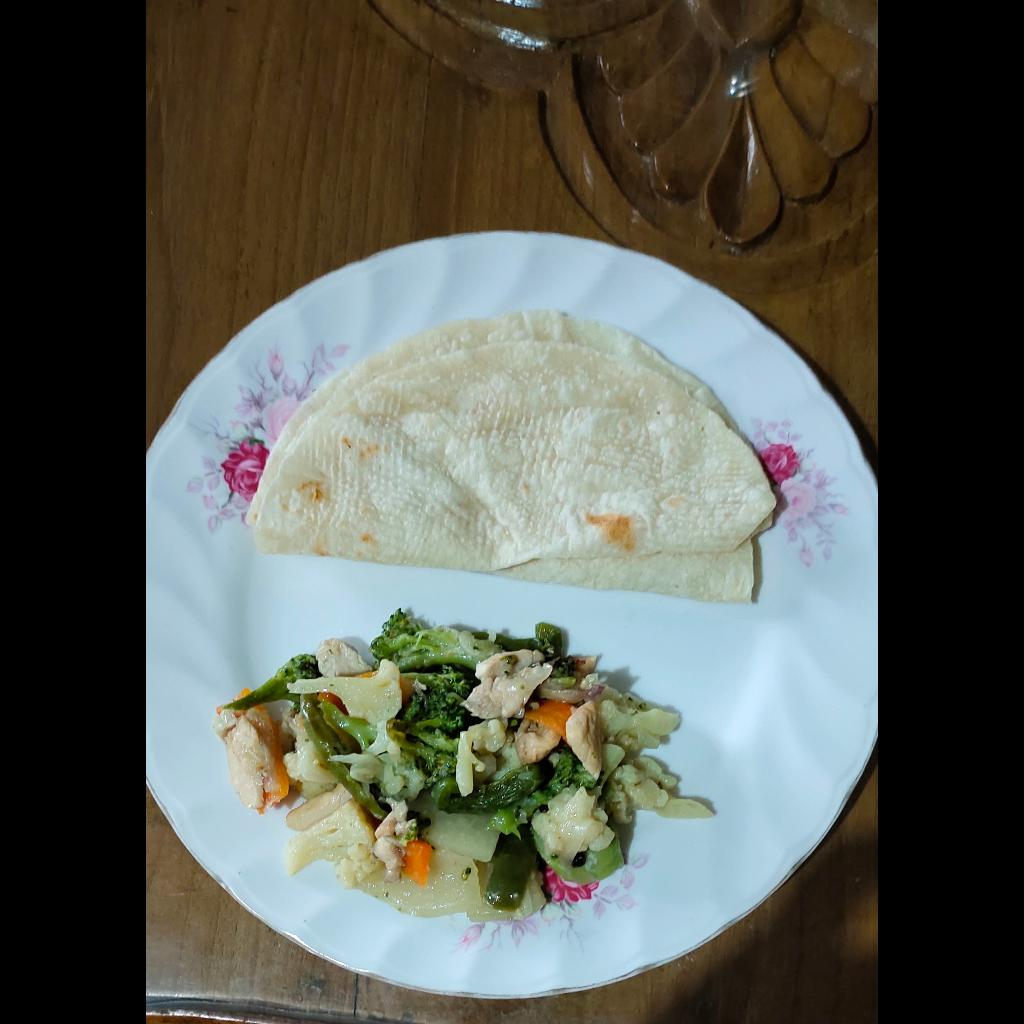ruti: (248, 311, 782, 603)
vegetable: (216, 609, 713, 920)
